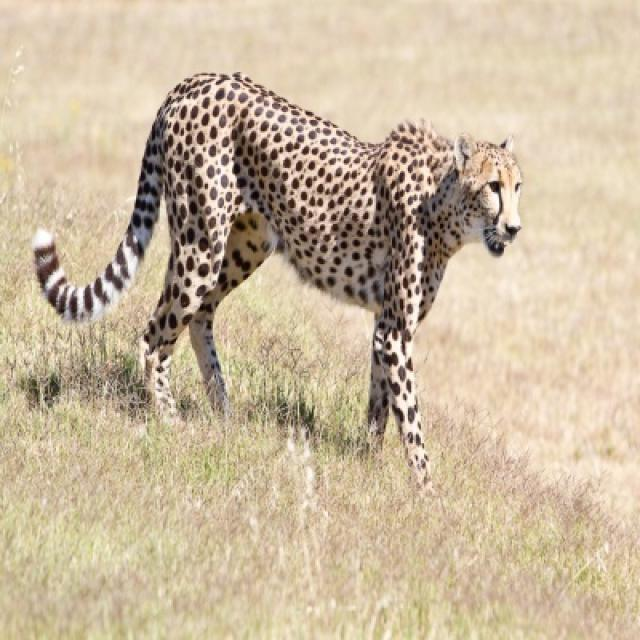Cheetah: (32, 72, 525, 482)
